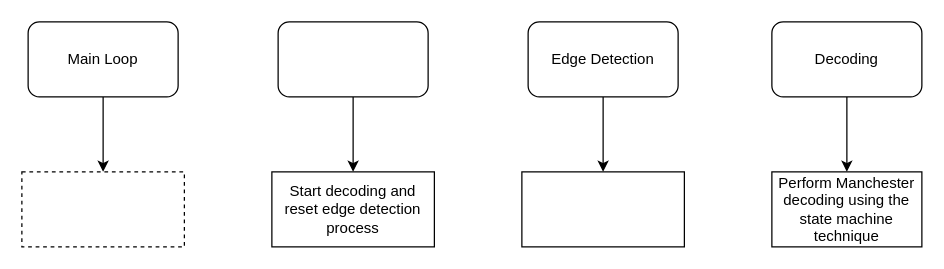
Some shapes in this 944 by 269 pixel diagram are drawn without their labels. Here are the shapes that lost their labels. From the top down, the box of each, then its label:
(277, 21, 428, 97): Timeout Monitoring
(21, 171, 184, 247): Perform routine tasks and game state monitoring
(521, 171, 684, 247): Record period between edges of Manchester Sequence
